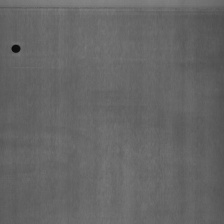punching_hole: (0, 1, 223, 15), (10, 42, 22, 54)
